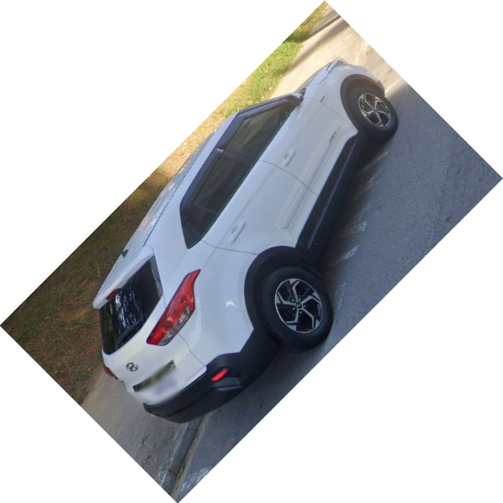car: (93, 57, 400, 428)
